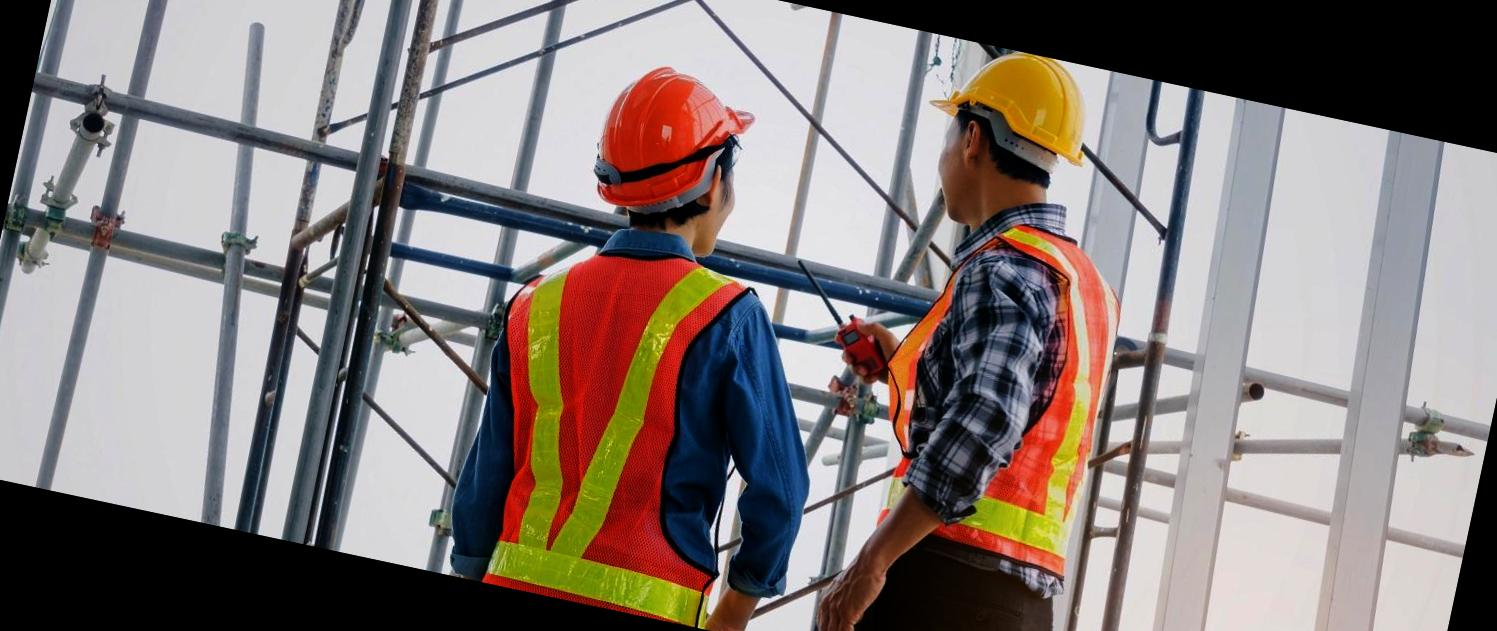helmet: (582, 52, 770, 241), (908, 37, 1129, 172)
person: (439, 37, 886, 631), (814, 40, 1187, 631)
